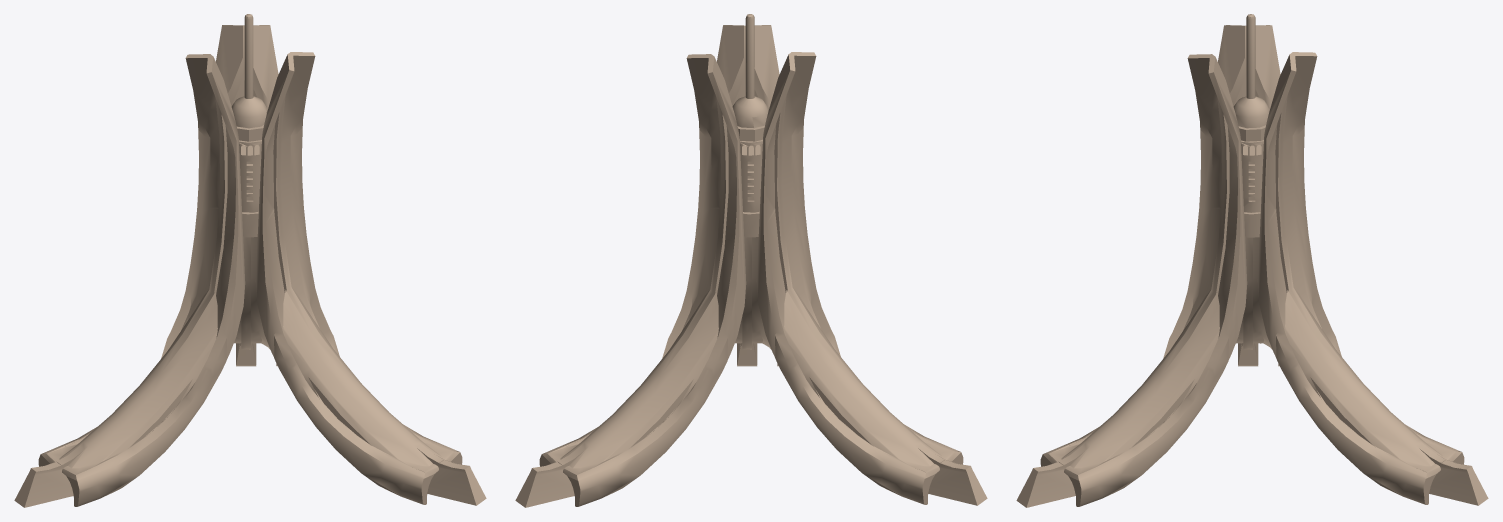
3 views of the same model, side by side, from view 1: azimuth 30°, elevation 25°; view 2: azimuth 150°, elevation 25°; view 3: azimuth 270°, elevation 25° (orthographic).
Visible parts, largest first — view 1: Monument_0; view 2: Monument_0; view 3: Monument_0.
Boxes of the visible parts, <box> form: Monument_0: <box>14,14,486,507</box>; Monument_0: <box>515,14,987,507</box>; Monument_0: <box>1016,14,1488,507</box>.
Size of the model in its own units: 64.42 by 74.09 by 73.27.
